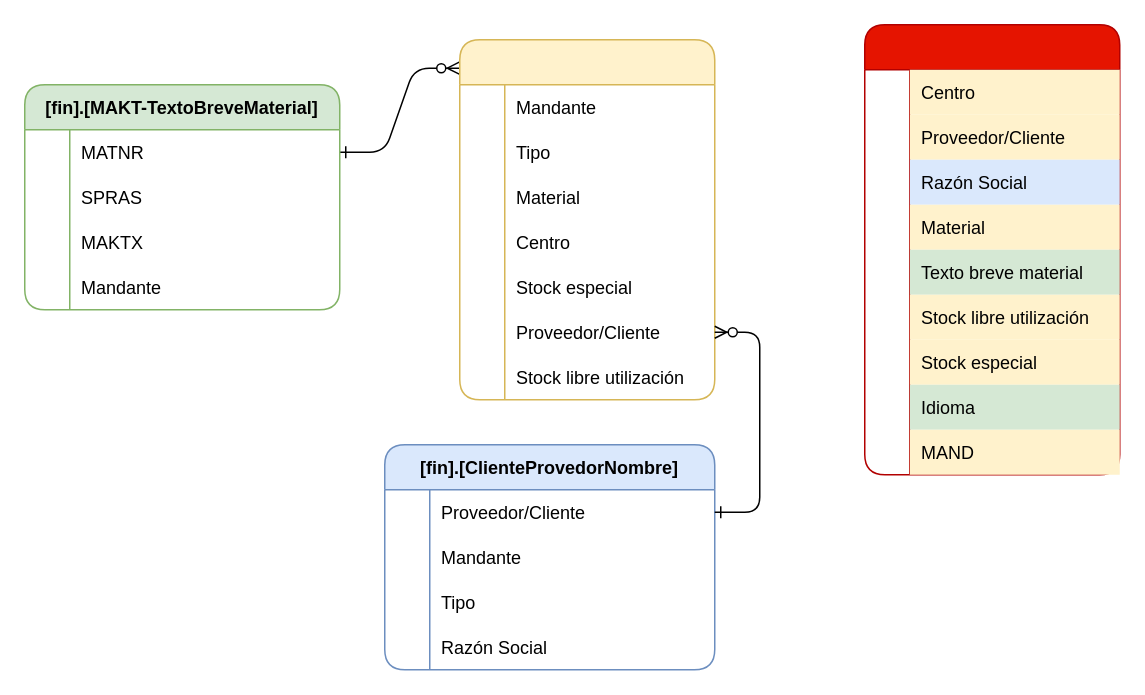
This 1145x695 diagram has some shape labels left out. The shapes that lost their labels are listed below. From the top down, each one's box as (x1, y1, x2, y2) in pixels, then its label:
(458, 38, 715, 400): [fin].[StocksEspeciales]
(863, 23, 1120, 475): Modelo_ZSDSTOCK
